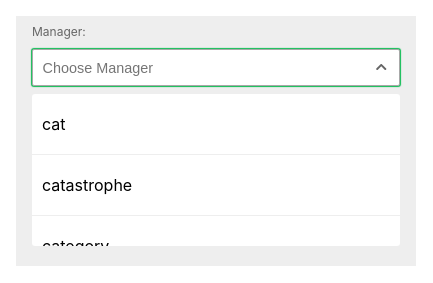
user interaction › input looses focus › keeps the current value
Press the mouse on the text "cat" at (54,124), box [42,114,66,134]
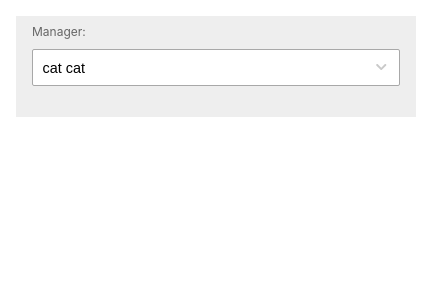
Expected: the field holds "cat cat", [32,49,400,86]
